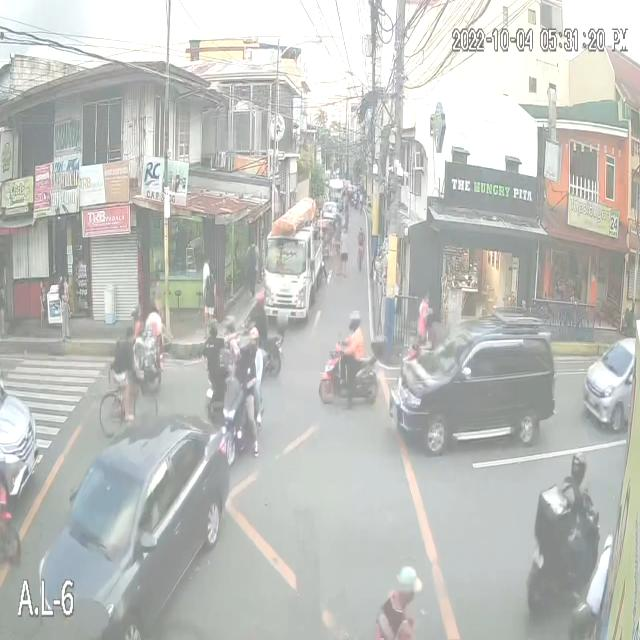Full-Faced: (570, 447, 587, 483), (342, 306, 364, 331), (207, 314, 226, 341), (128, 302, 142, 332), (252, 288, 268, 308), (250, 326, 264, 348), (224, 316, 239, 334)
